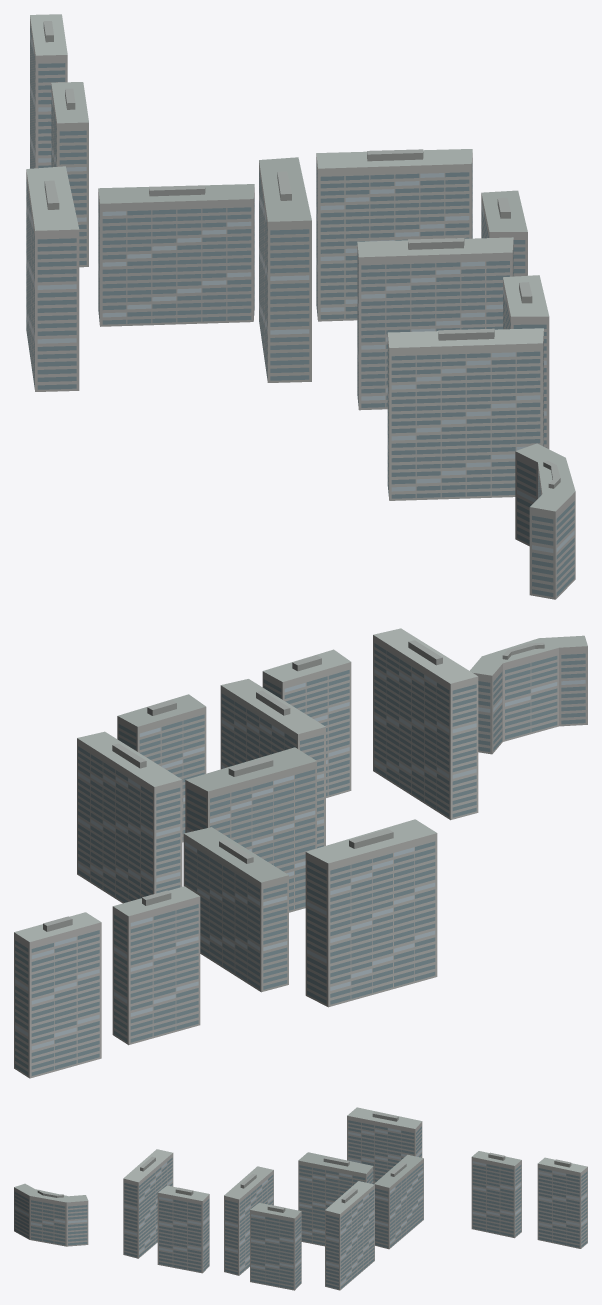
File: apt-a13084101.glb
3 views of the same model, one above another, from view 1: azimuth 30°, elevation 25°; view 2: azimuth 150°, elevation 25°; view 3: azimuth 270°, elevation 25° (orthographic). The views are drawn at different scales.
Visible parts, largest first — view 1: apt-a13084101; view 2: apt-a13084101; view 3: apt-a13084101.
Part boxes in pixels (box(x1,y1,x2,y2)): apt-a13084101: box(26, 14, 575, 599); apt-a13084101: box(14, 628, 587, 1078); apt-a13084101: box(14, 1107, 587, 1290).
Size of the model in its own units: 157 by 60 by 372.
